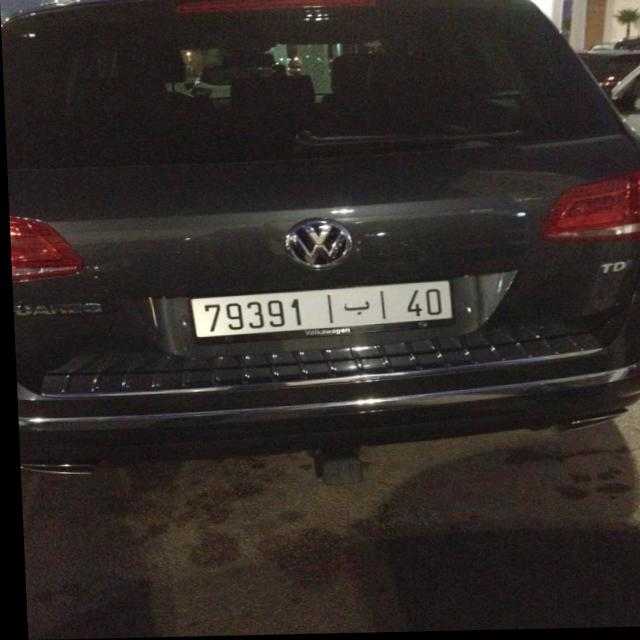License-Plate: (189, 283, 450, 337)
